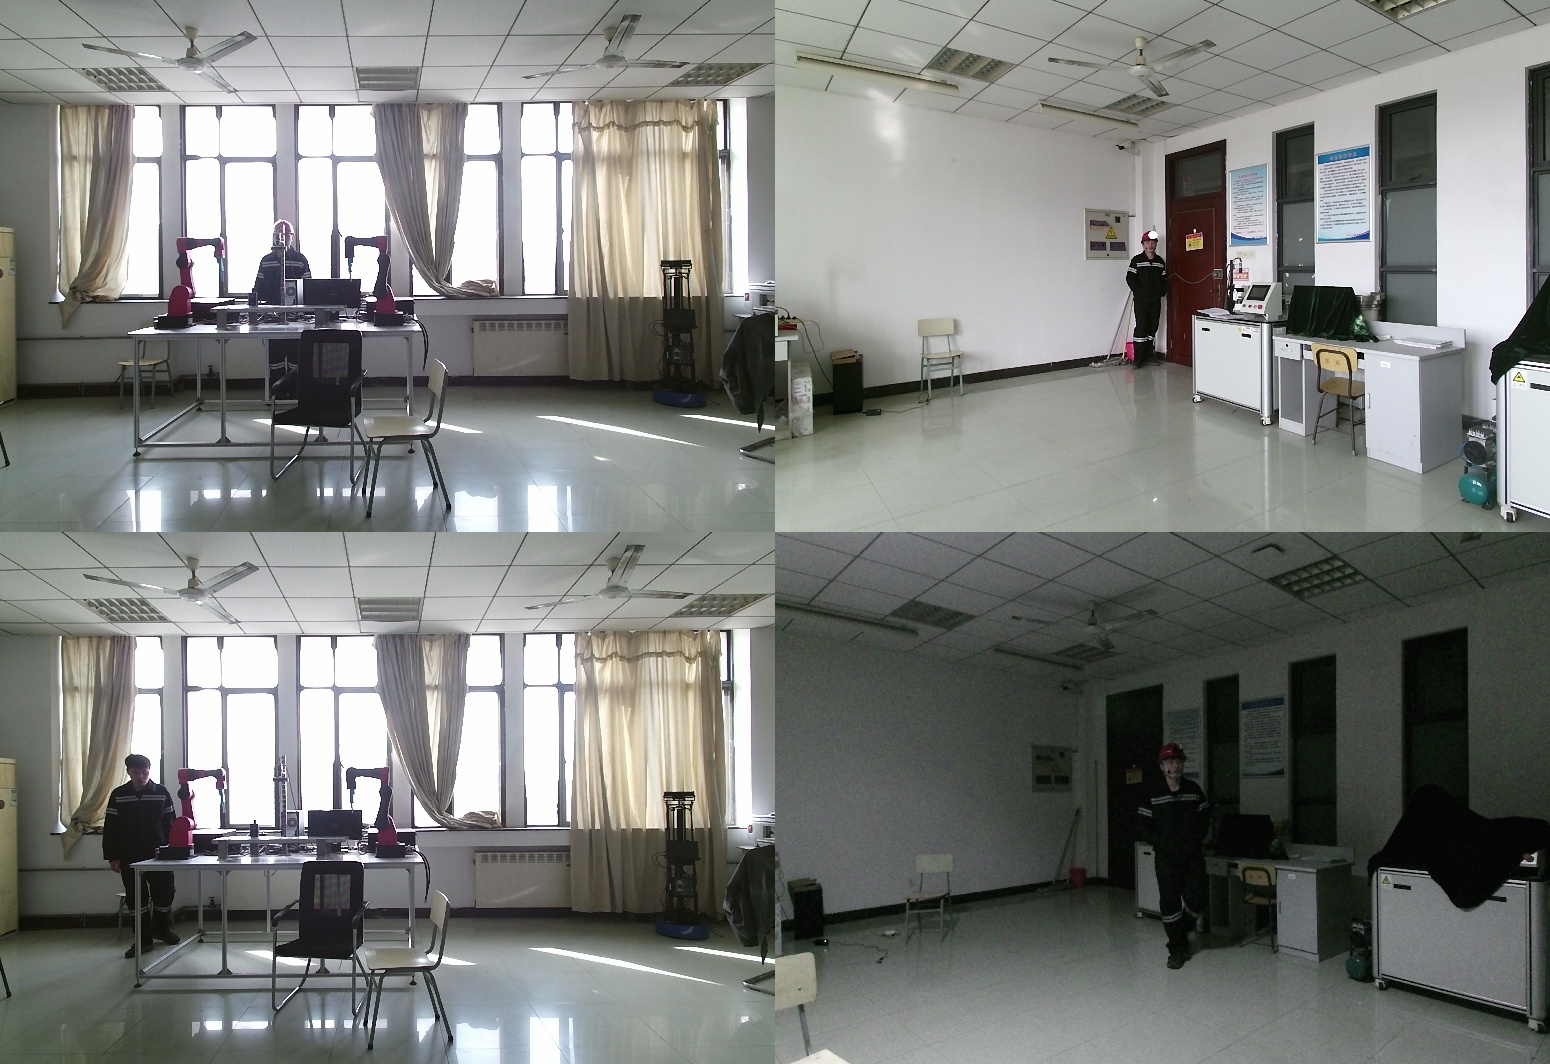person: (1136, 745, 1226, 969), (96, 754, 185, 957), (251, 222, 312, 402), (1124, 232, 1167, 371)
